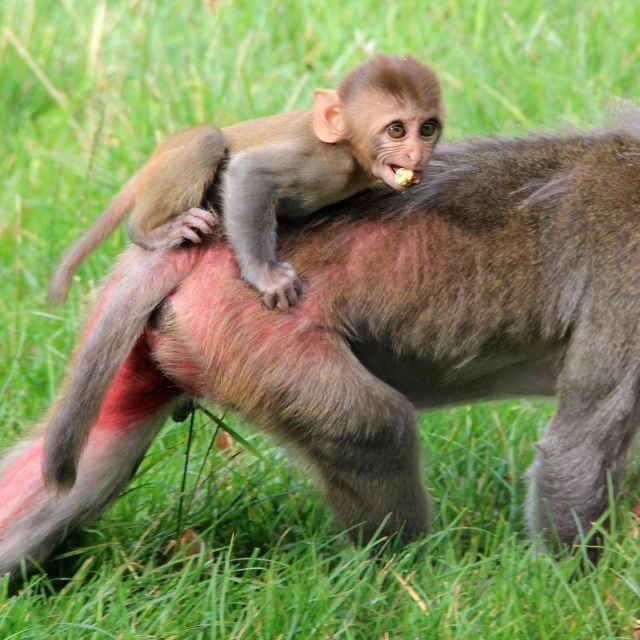Monkey: (0, 90, 640, 601), (43, 52, 451, 312)
